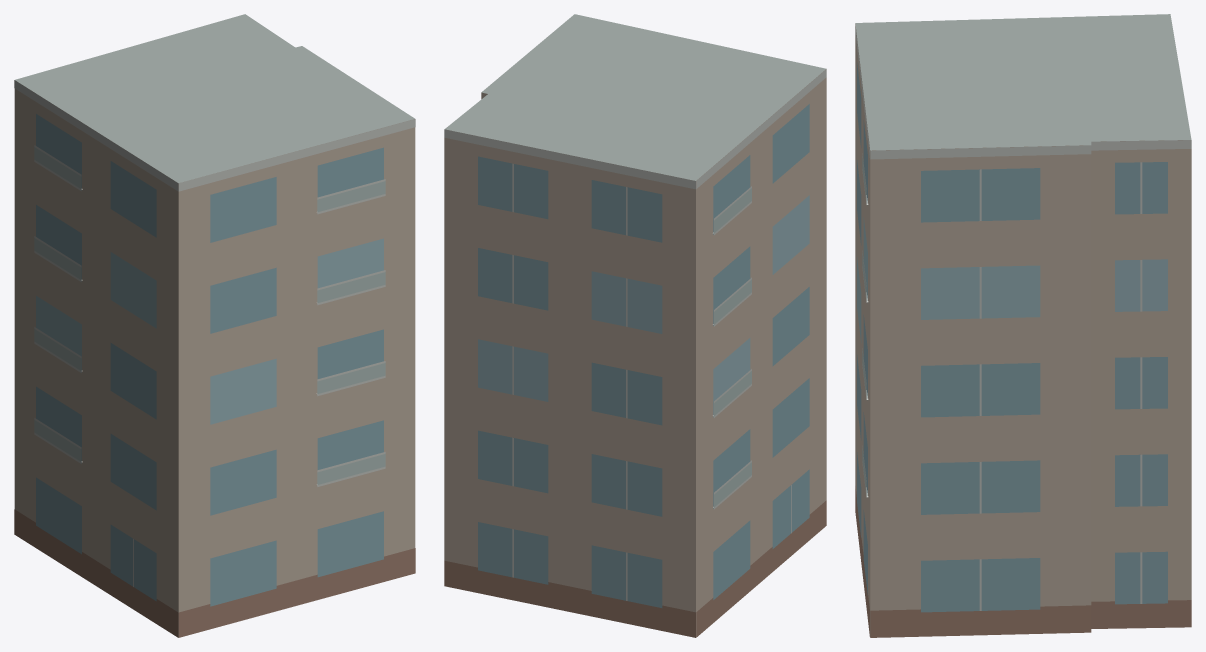
Rendered from survey-upis-32708272.glb.
3 renders of one model, left to right at view 1: azimuth 30°, elevation 25°; view 2: azimuth 150°, elevation 25°; view 3: azimuth 270°, elevation 25°, orthographic. The views are drawn at different scales.
Parts seen in each view (by area): view 1: survey-upis-32708272.tmp; view 2: survey-upis-32708272.tmp; view 3: survey-upis-32708272.tmp.
Boxes of the visible parts, left/top/right/bottom form: survey-upis-32708272.tmp: left=14, top=14, right=415, bottom=637; survey-upis-32708272.tmp: left=444, top=14, right=826, bottom=637; survey-upis-32708272.tmp: left=855, top=14, right=1191, bottom=637.
Bounding box in the file's own units: 7.94 × 13.2 × 8.26.
